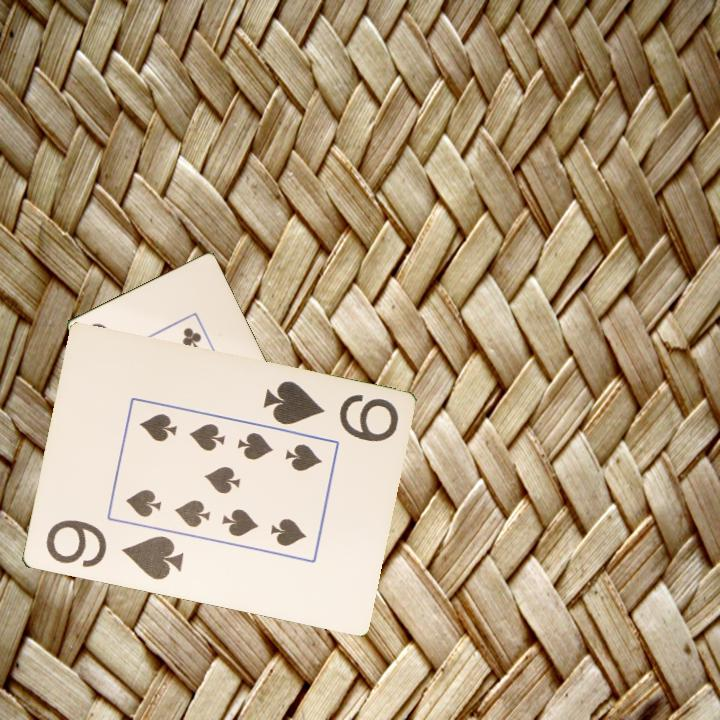9s: (41, 516, 187, 584), (259, 377, 401, 446)
